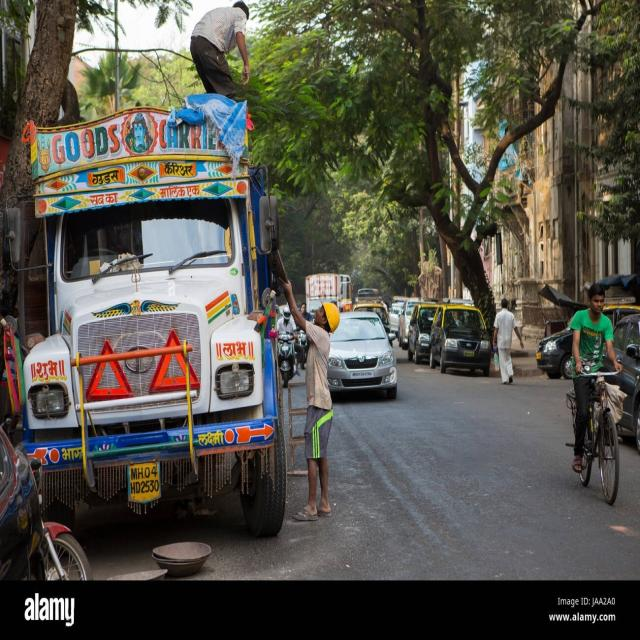bicycle: (568, 284, 621, 504)
car: (328, 313, 398, 399), (430, 304, 491, 376), (408, 303, 438, 364)
motorcycle: (276, 306, 296, 388)
truck: (6, 105, 286, 537)
